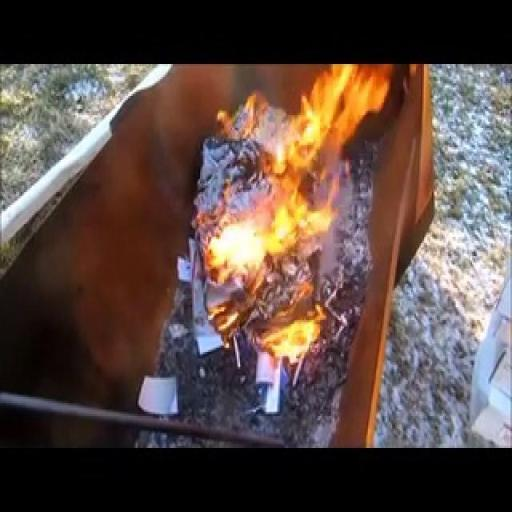smoke: (184, 64, 355, 361)
